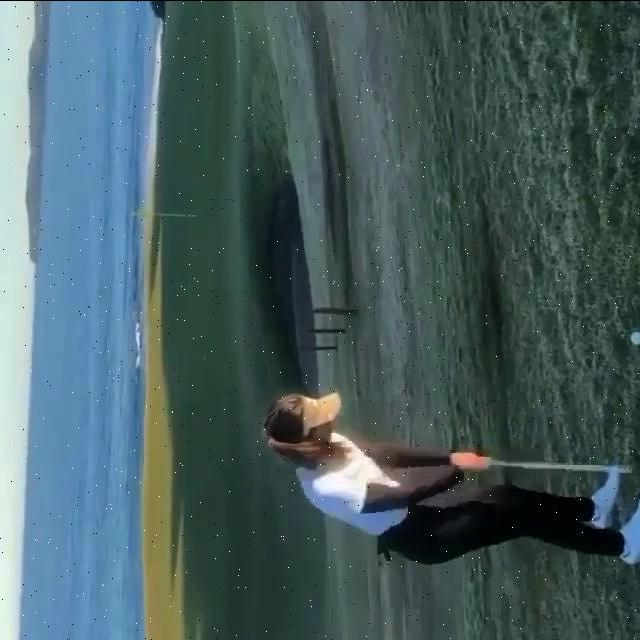golf ball: (629, 331, 640, 345)
golf club-handle: (488, 458, 634, 473)
